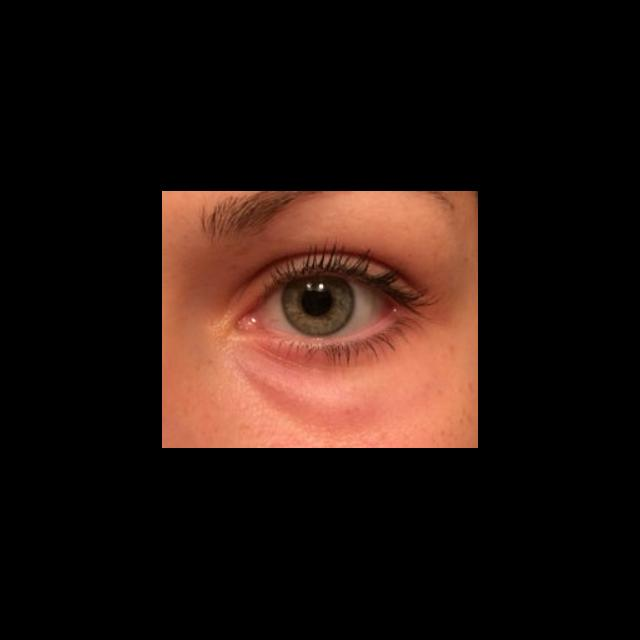eye: (264, 279, 384, 340)
iris: (283, 281, 355, 336)
